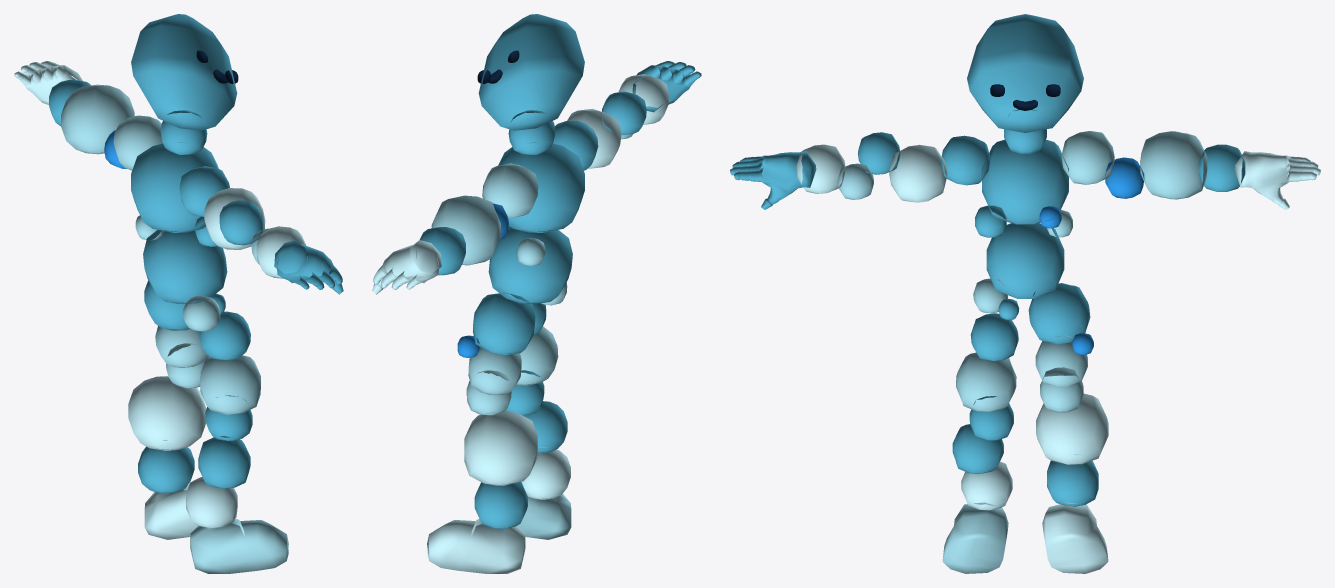
The model's file is scene_ecxlR3wxKS.glb.
3 renders of one model, left to right at view 1: azimuth 30°, elevation 25°; view 2: azimuth 150°, elevation 25°; view 3: azimuth 270°, elevation 25°, orthographic. The views are drawn at different scales.
Visible parts, largest first — view 1: _100Avatars_140_BubbleBoi; view 2: _100Avatars_140_BubbleBoi; view 3: _100Avatars_140_BubbleBoi.
Boxes of the visible parts, left/top/right/bottom form: _100Avatars_140_BubbleBoi: left=14, top=14, right=343, bottom=573; _100Avatars_140_BubbleBoi: left=372, top=14, right=701, bottom=573; _100Avatars_140_BubbleBoi: left=730, top=14, right=1320, bottom=573.
Size of the model in its own units: 1.11 by 4.74 by 4.88.
1 material, 1 textured.
